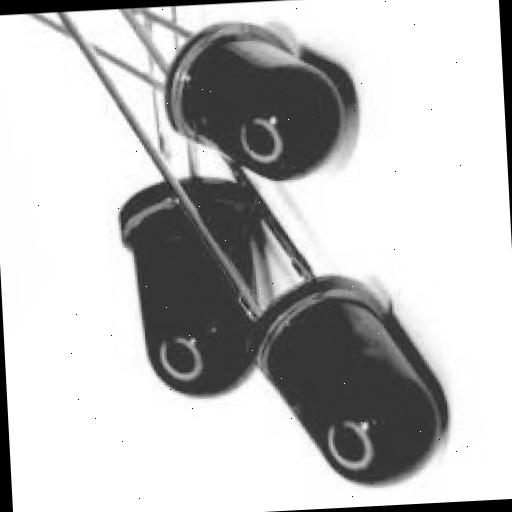LED: (244, 214, 452, 497), (88, 144, 294, 416), (114, 10, 392, 202)
